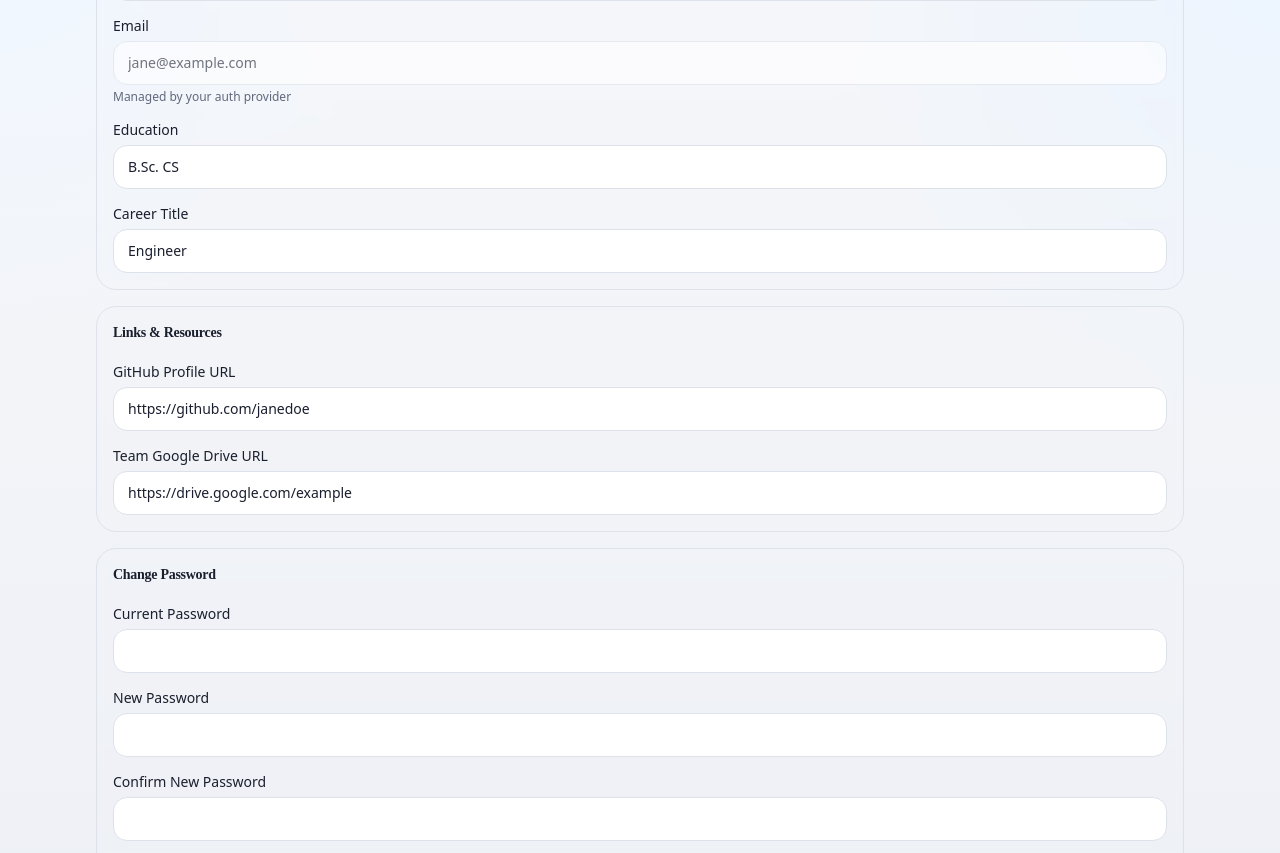
Scenario: ProfilePage › rejects invalid GitHub URL on save
The width and height of the screenshot is (1280, 853).
(page scrolled)
Replace the text in the field labelled "GitHub Profile URL" with "https://notgithub.com/user" at (640,408), box [113,386,1167,430]
(page scrolled)
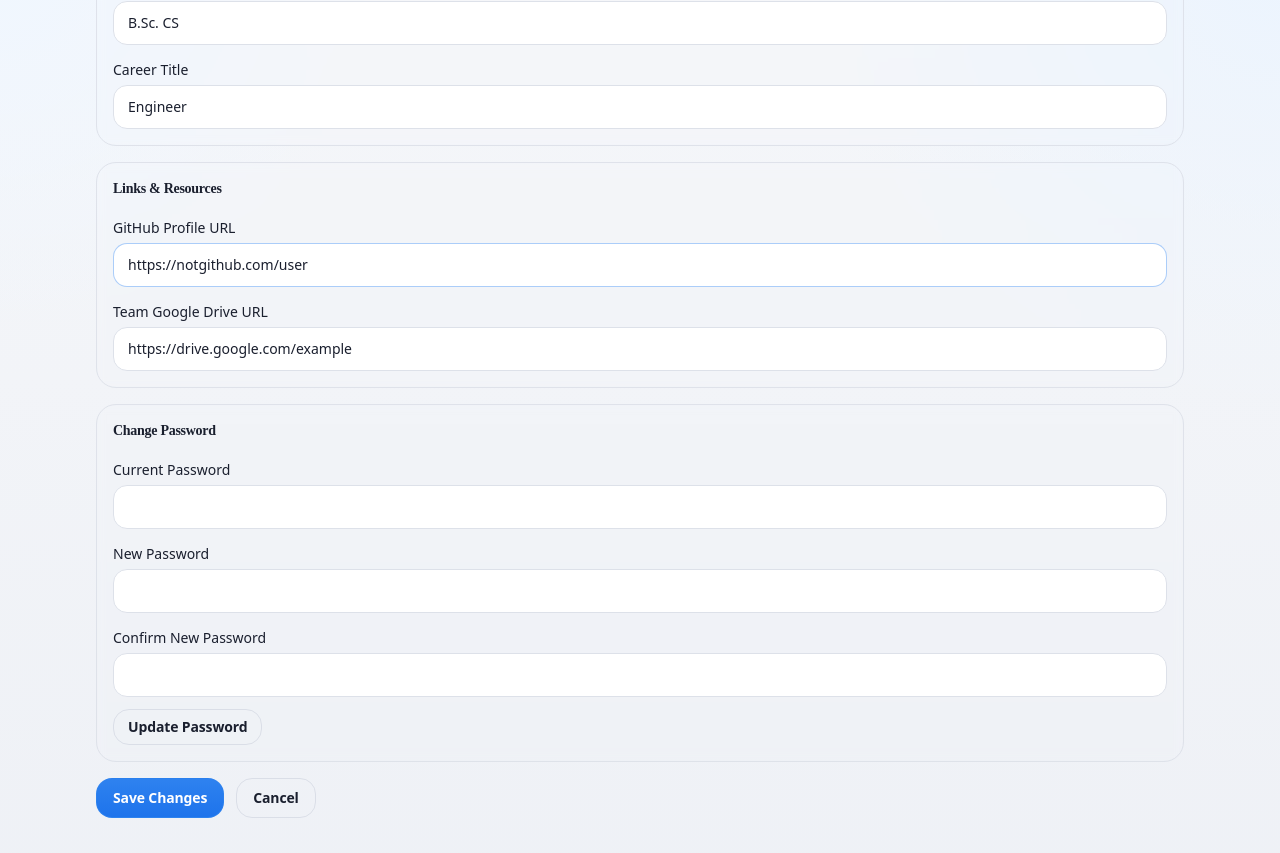
Click the button "Save Changes" at (160,798), box [96,778,224,818]
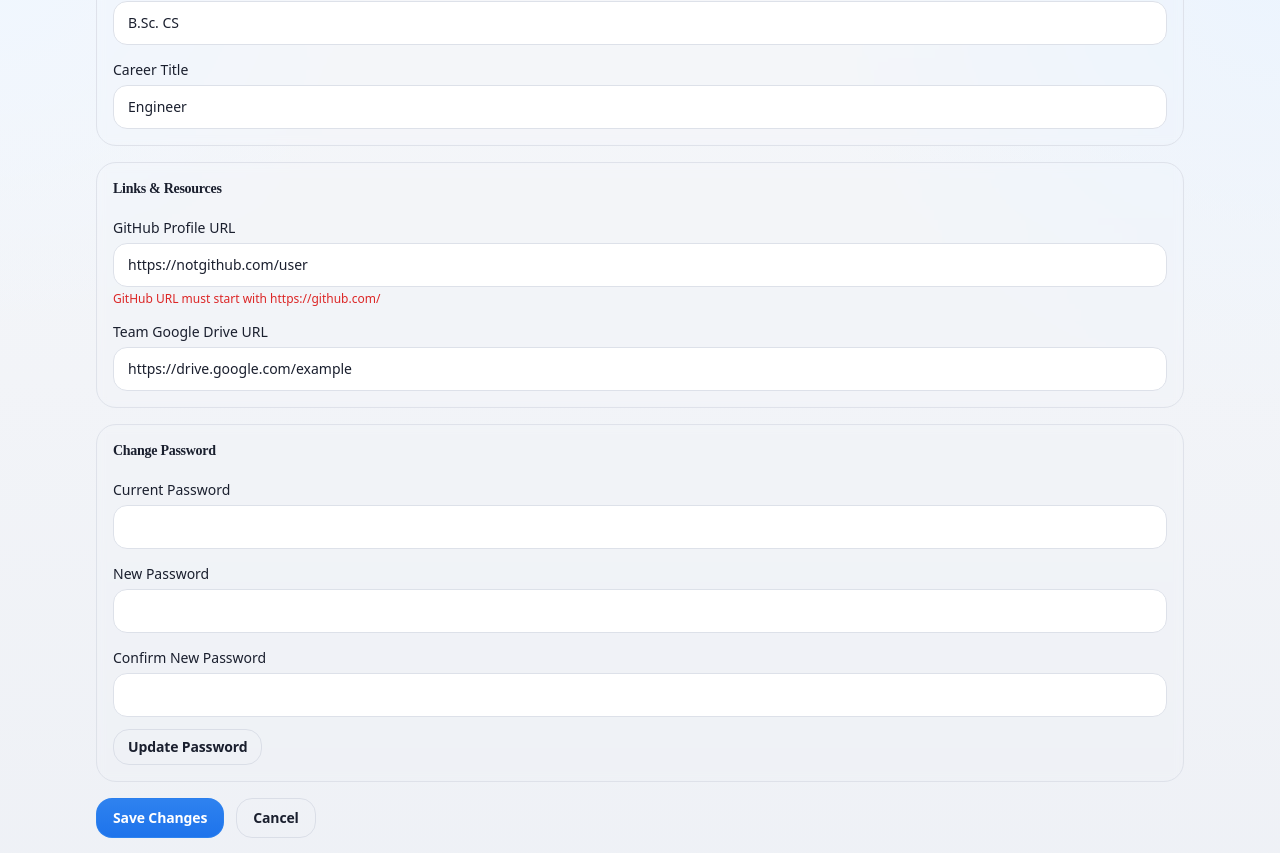
Check: the text "GitHub URL must start with https://github.com/" is shown, box [113,290,380,306]
